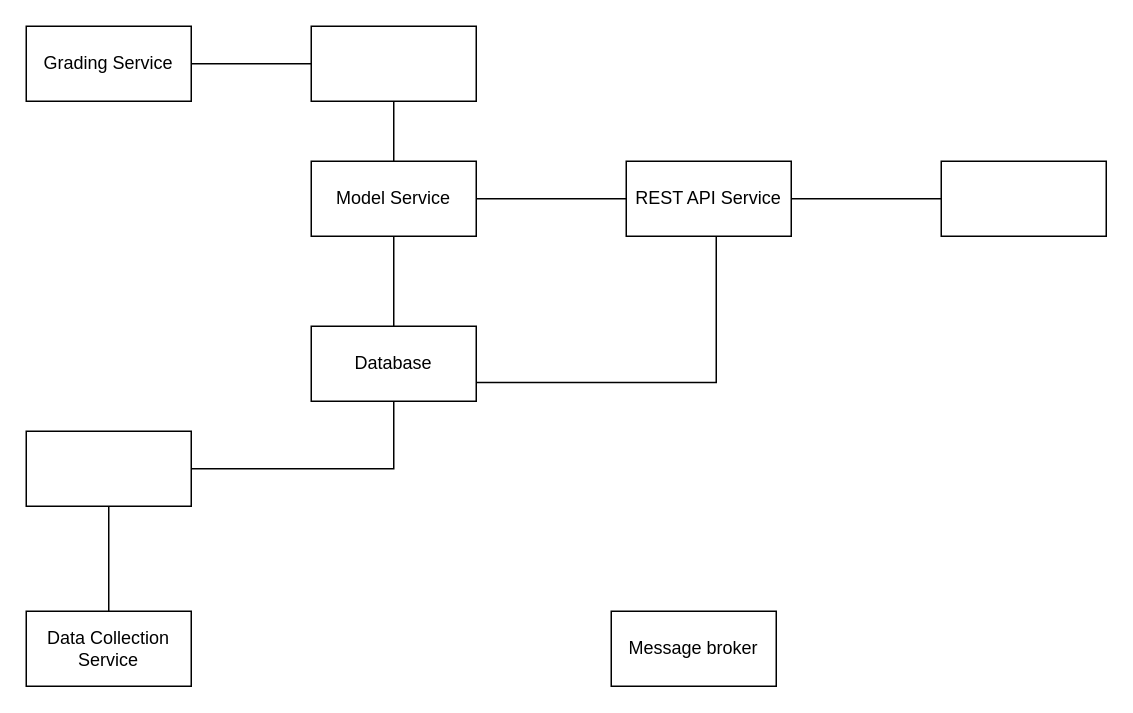
This 1133x713 diagram has some shape labels left out. The shapes that lost their labels are listed below. From the top down, each one's centre as x and y in pixels, then its label:
At pixel 393 63: "Keywords Service".
At pixel 1023 198: "Frontend".
At pixel 108 468: "Processing Service".
